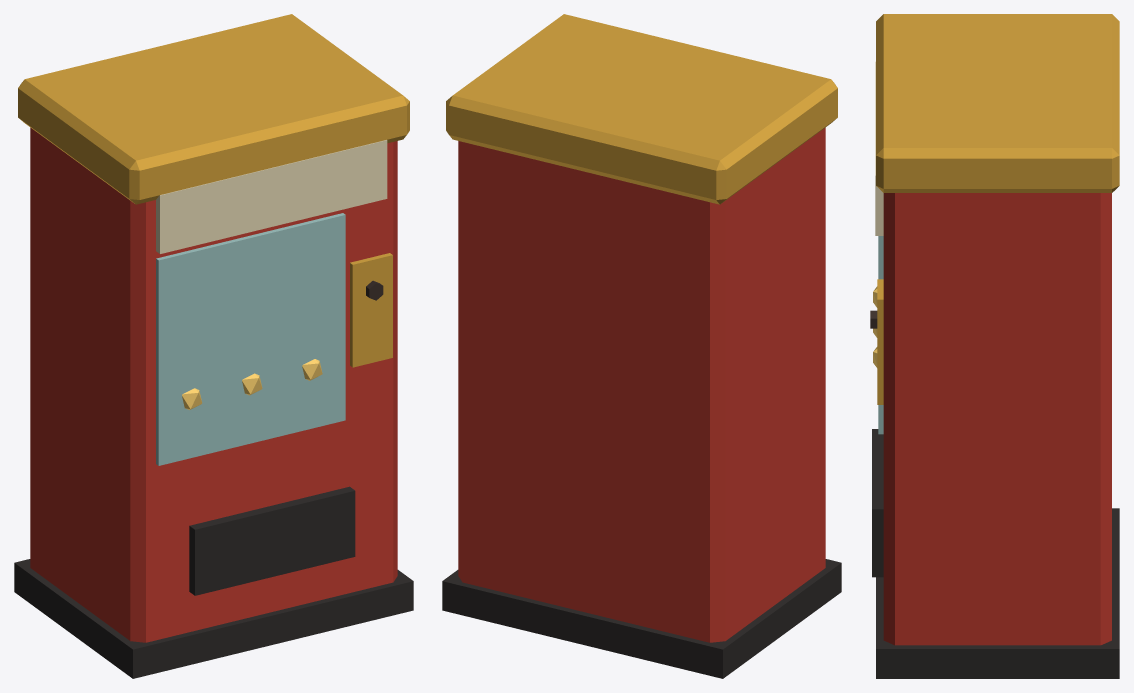
File: VendingMachine.fbx
The picture shows the model from 3 angles, left to right: view 1: azimuth 30°, elevation 25°; view 2: azimuth 150°, elevation 25°; view 3: azimuth 270°, elevation 25°; orthographic projection. The views are drawn at different scales.
Parts seen in each view (by area): view 1: VendingMachine; view 2: VendingMachine; view 3: VendingMachine.
Part boxes in pixels (bbox=[...]): VendingMachine: bbox=[14, 14, 413, 678]; VendingMachine: bbox=[442, 14, 841, 678]; VendingMachine: bbox=[870, 14, 1119, 678].
Bounding box in the file's own units: 4 × 7 × 3.
